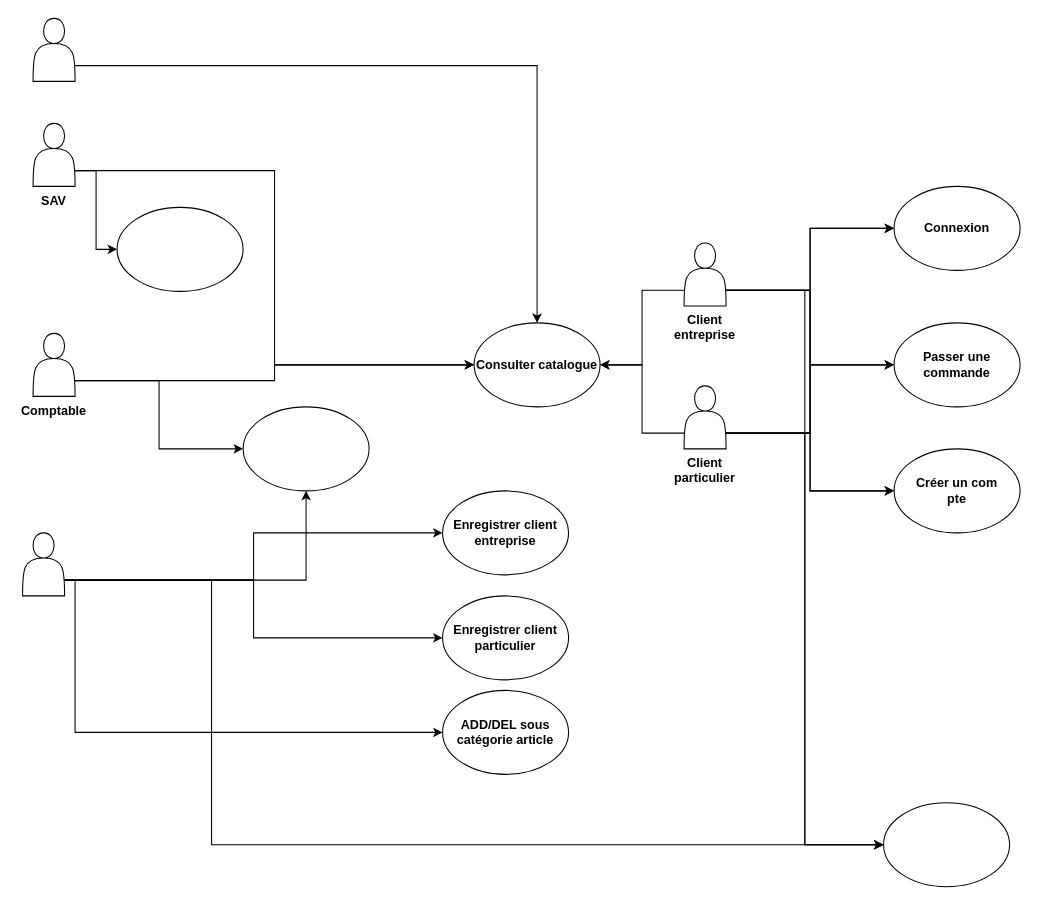
This 1038x905 diagram has some shape labels left out. Here are the shapes that lost their labels. From the top down, the box of each, then its label:
(32, 17, 75, 81): Commercial
(116, 206, 243, 291): Réclamation
(242, 406, 369, 491): Édition facture
(22, 532, 65, 596): Gestion
(883, 802, 1010, 887): Historique de commande
